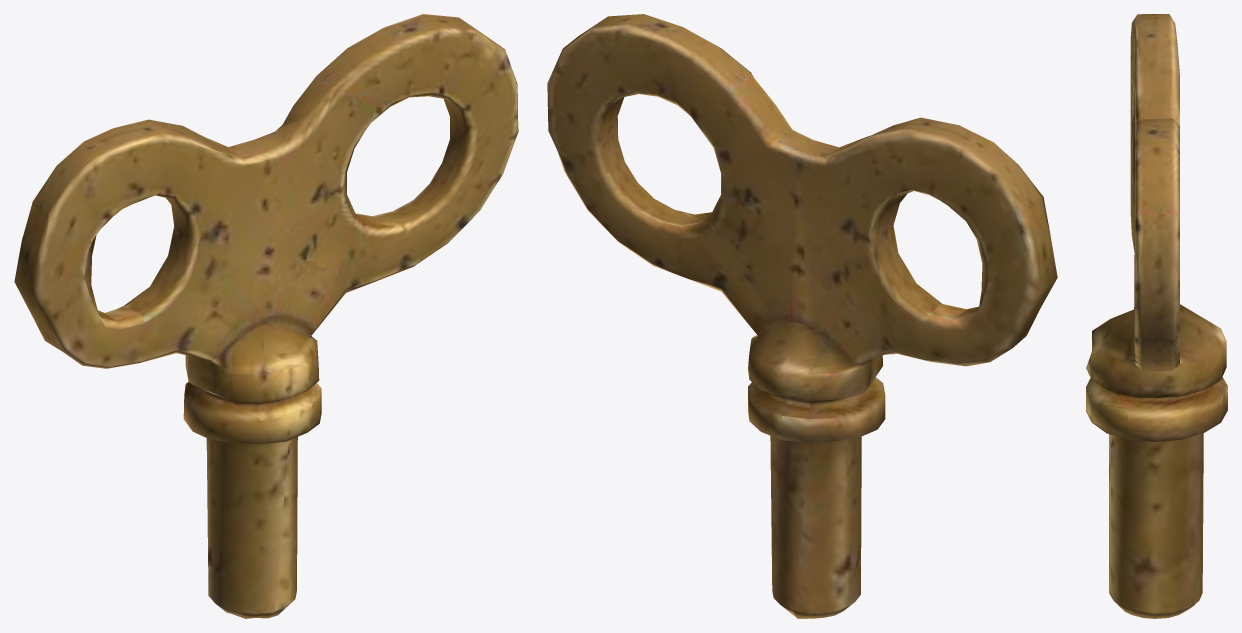
File: prop_toy_windkey.glb
3 renders of one model, left to right at view 1: azimuth 30°, elevation 25°; view 2: azimuth 150°, elevation 25°; view 3: azimuth 270°, elevation 25°, orthographic. The views are drawn at different scales.
Bounding box in the file's own units: 0.248 × 0.2617 × 0.0605.
Materials: 1 (1 with a texture image).
